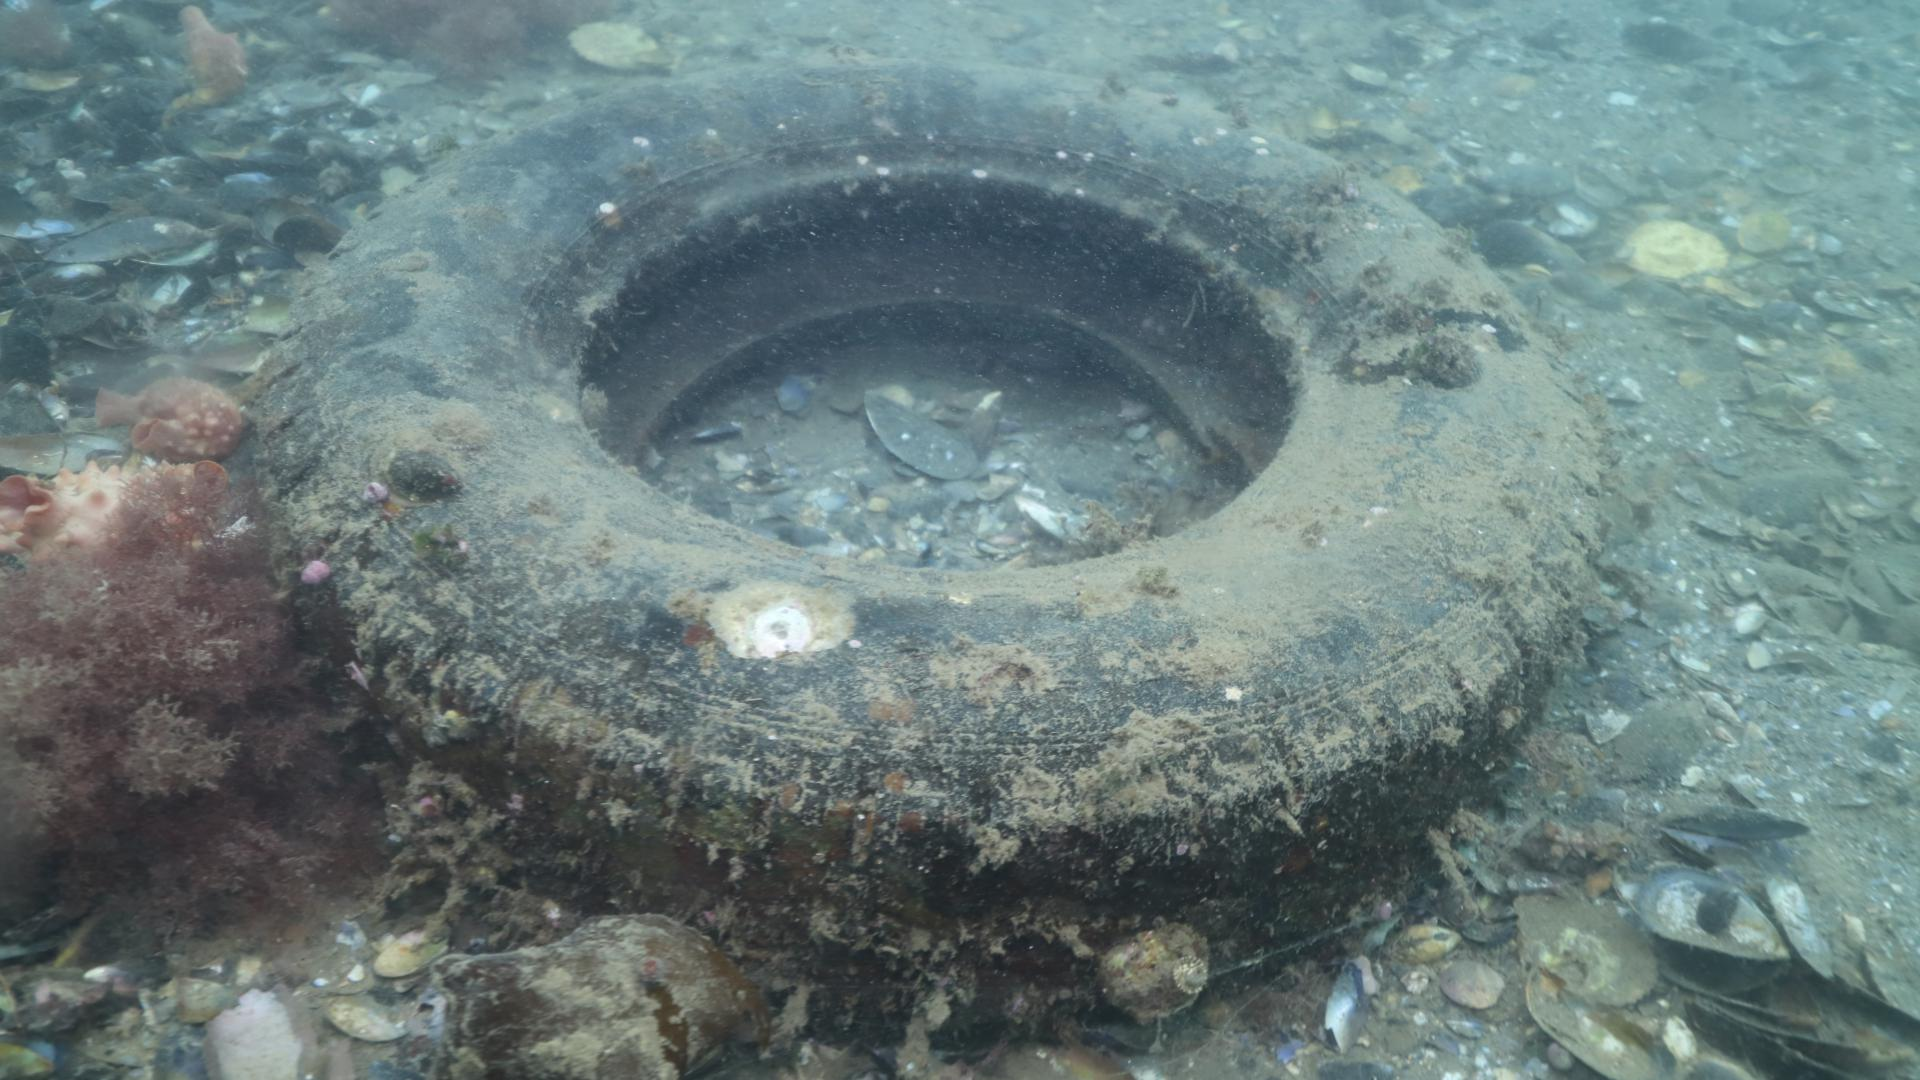tire: (261, 58, 1596, 1048)
